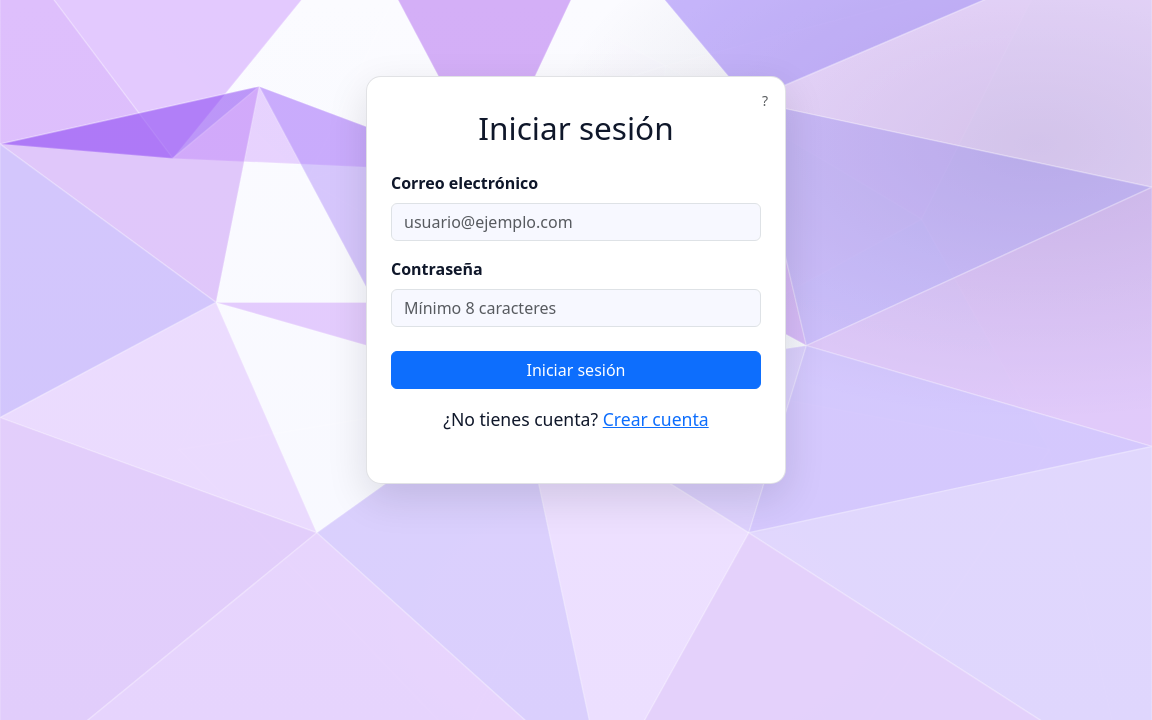
Test: Login Component - Microservicios › muestra mensaje de error cuando las credenciales son incorrectas
In the field labelled "Correo electrónico": x=576, y=222 [391,203,761,241], type "wrong@email.com"
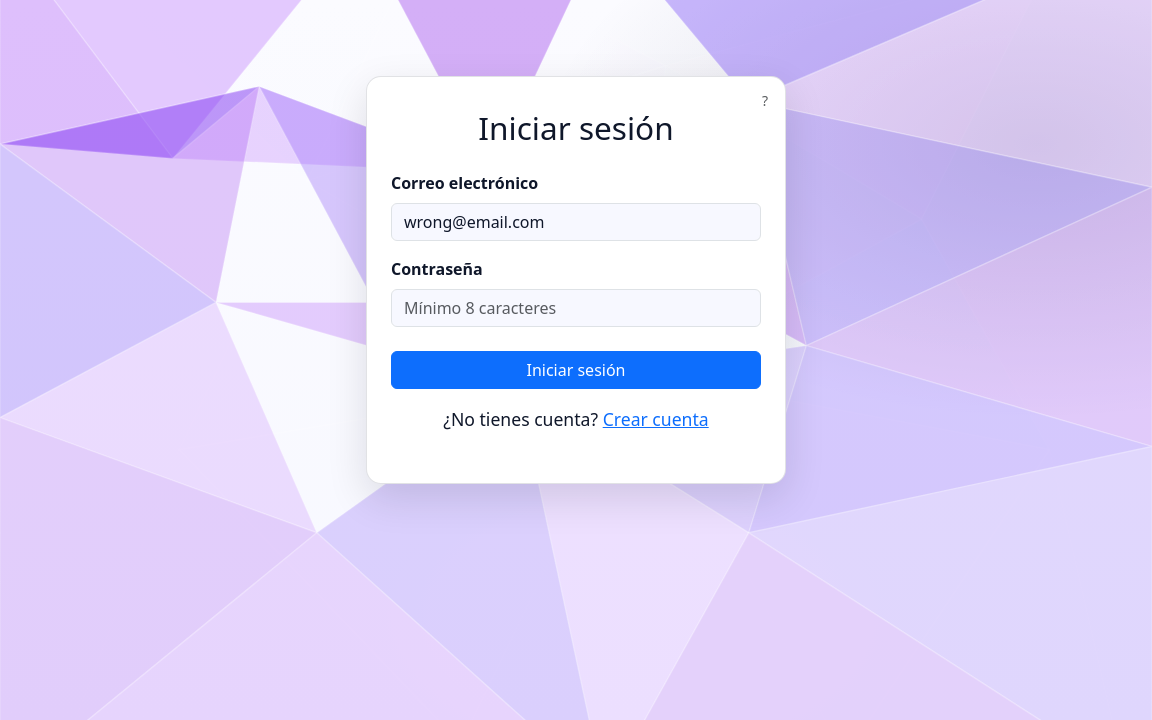
In the password field labelled "Contraseña": x=576, y=308 [391,289,761,327], type "wrongpass123"
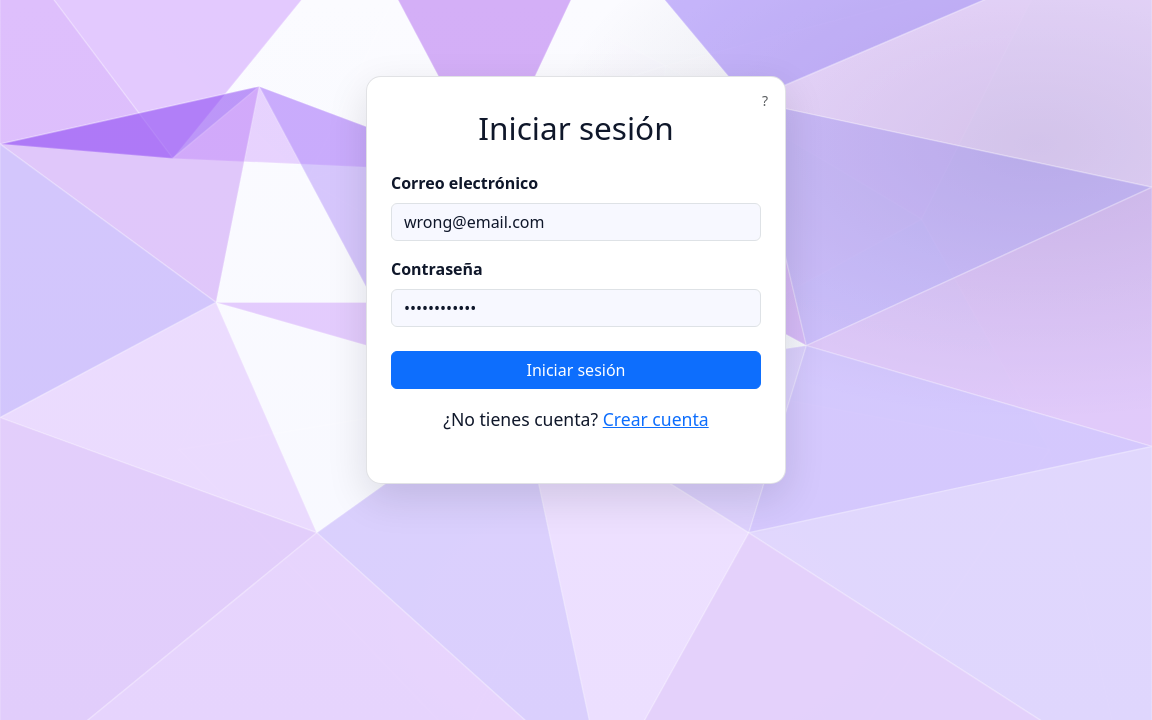
Click the button "Iniciar sesión": x=576, y=370 [391,351,761,389]
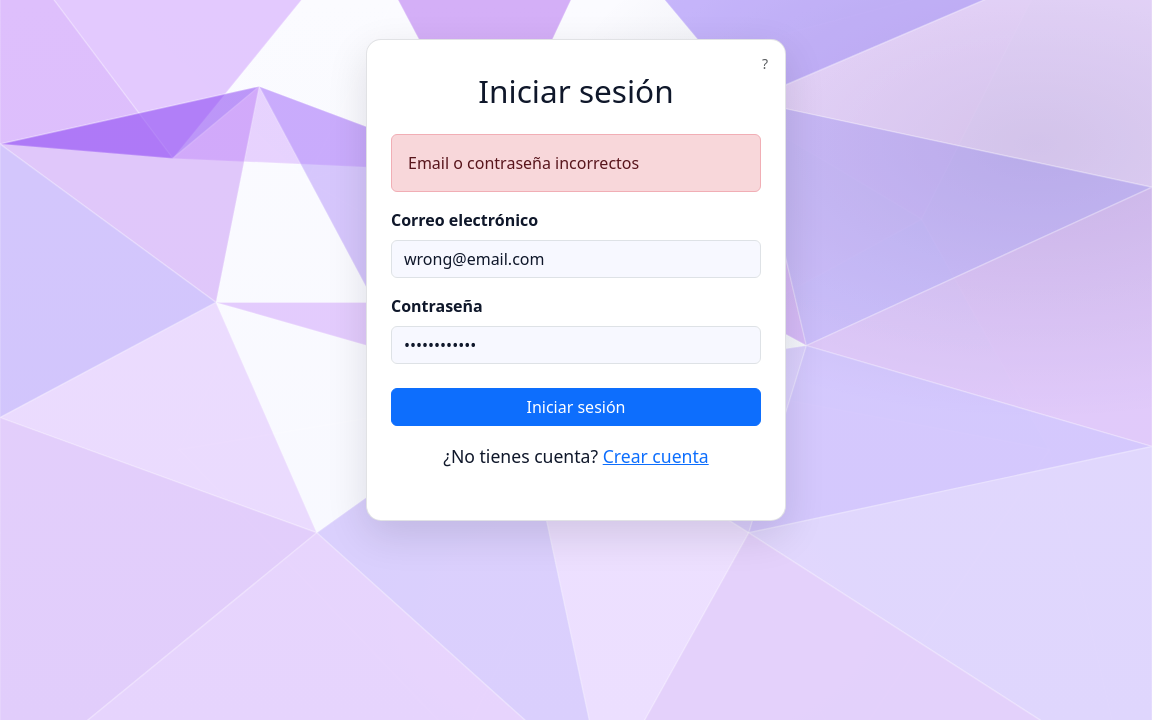
Result: the text "Email o contraseña incorrectos" is shown at [391,134,761,192]
